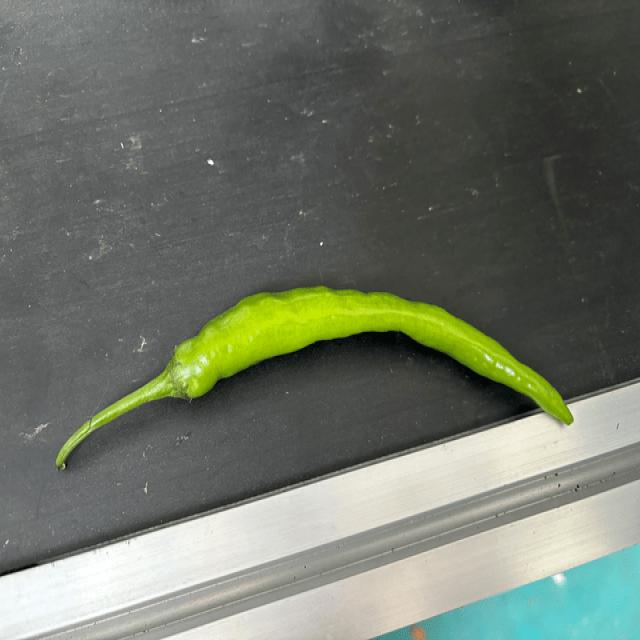chili: (159, 285, 576, 428)
